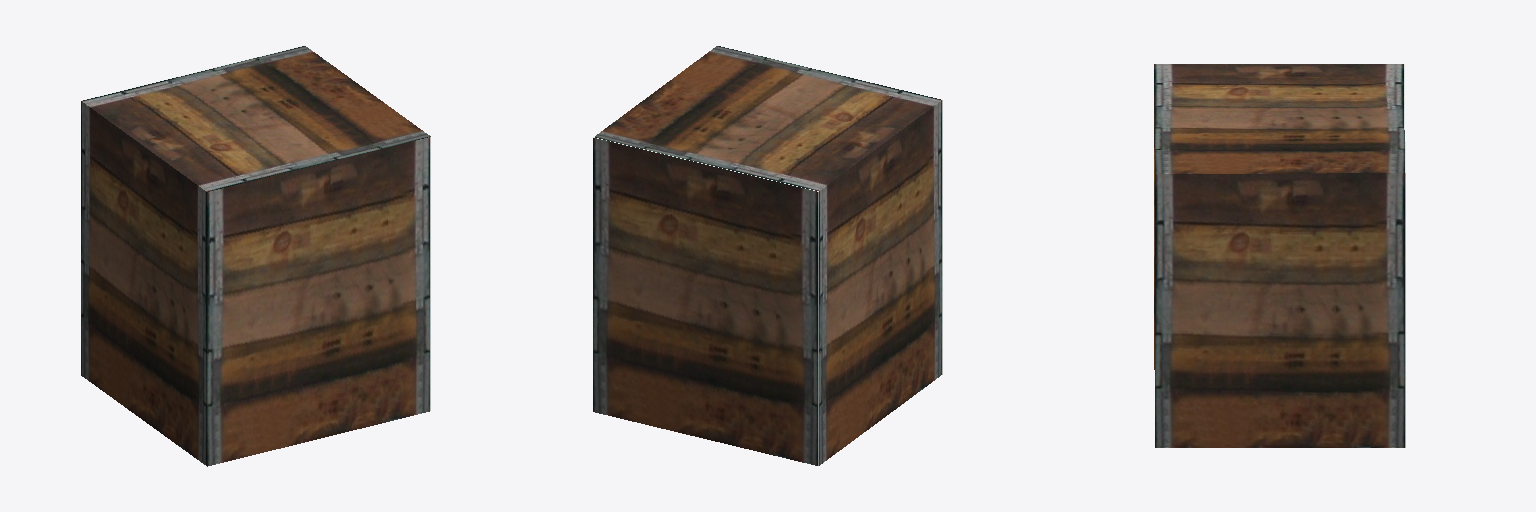
3 renders of one model, left to right at view 1: azimuth 30°, elevation 25°; view 2: azimuth 150°, elevation 25°; view 3: azimuth 270°, elevation 25°, orthographic.
Parts seen in each view (by area): view 1: box; view 2: box; view 3: box.
Boxes of the visible parts, box(x1,y1,x2,y2) form: box: box(81, 45, 430, 466); box: box(593, 46, 942, 465); box: box(1154, 64, 1405, 447).
Size of the model in its own units: 60.3 by 70 by 58.18.
Materials: 1 (1 with a texture image).